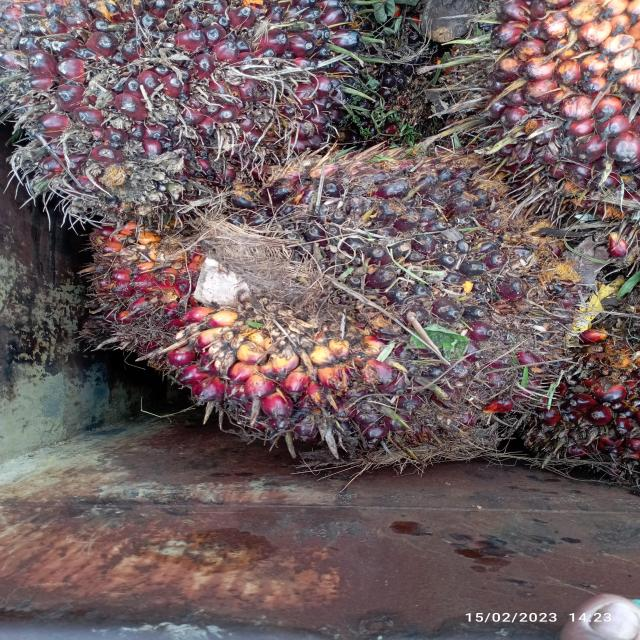fraksi 1: (52, 150, 617, 475), (4, 1, 374, 216)
